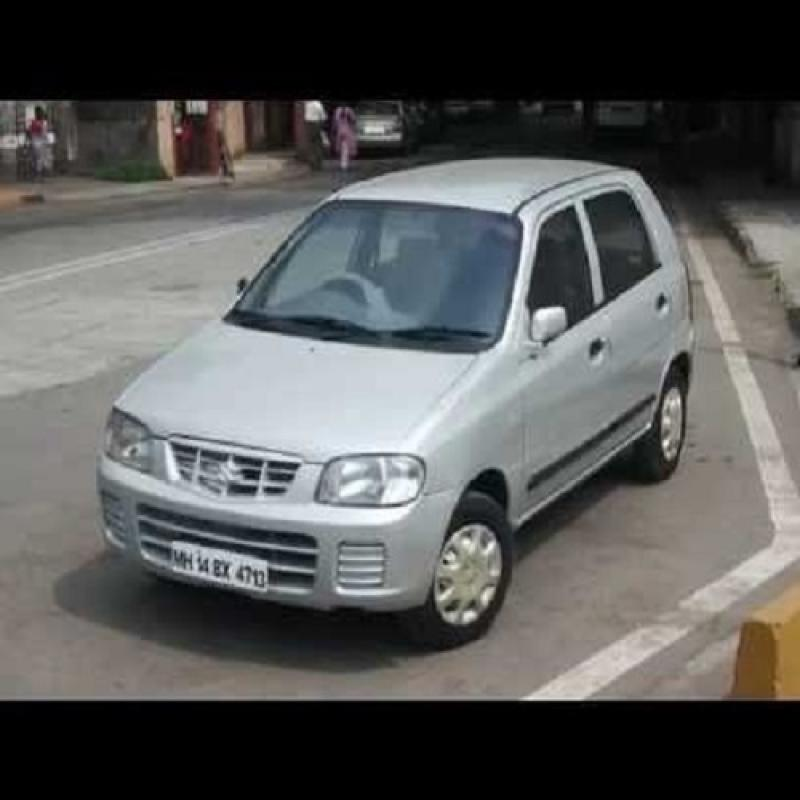car: (126, 146, 695, 624)
